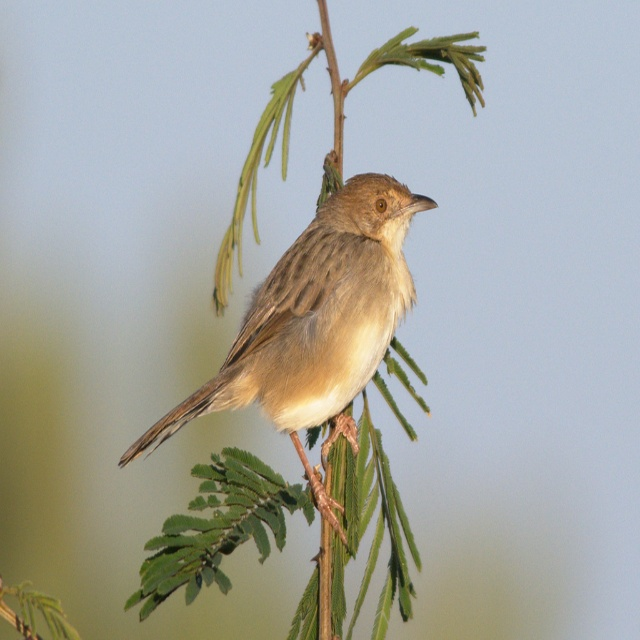Sparrow: (119, 169, 439, 548)
